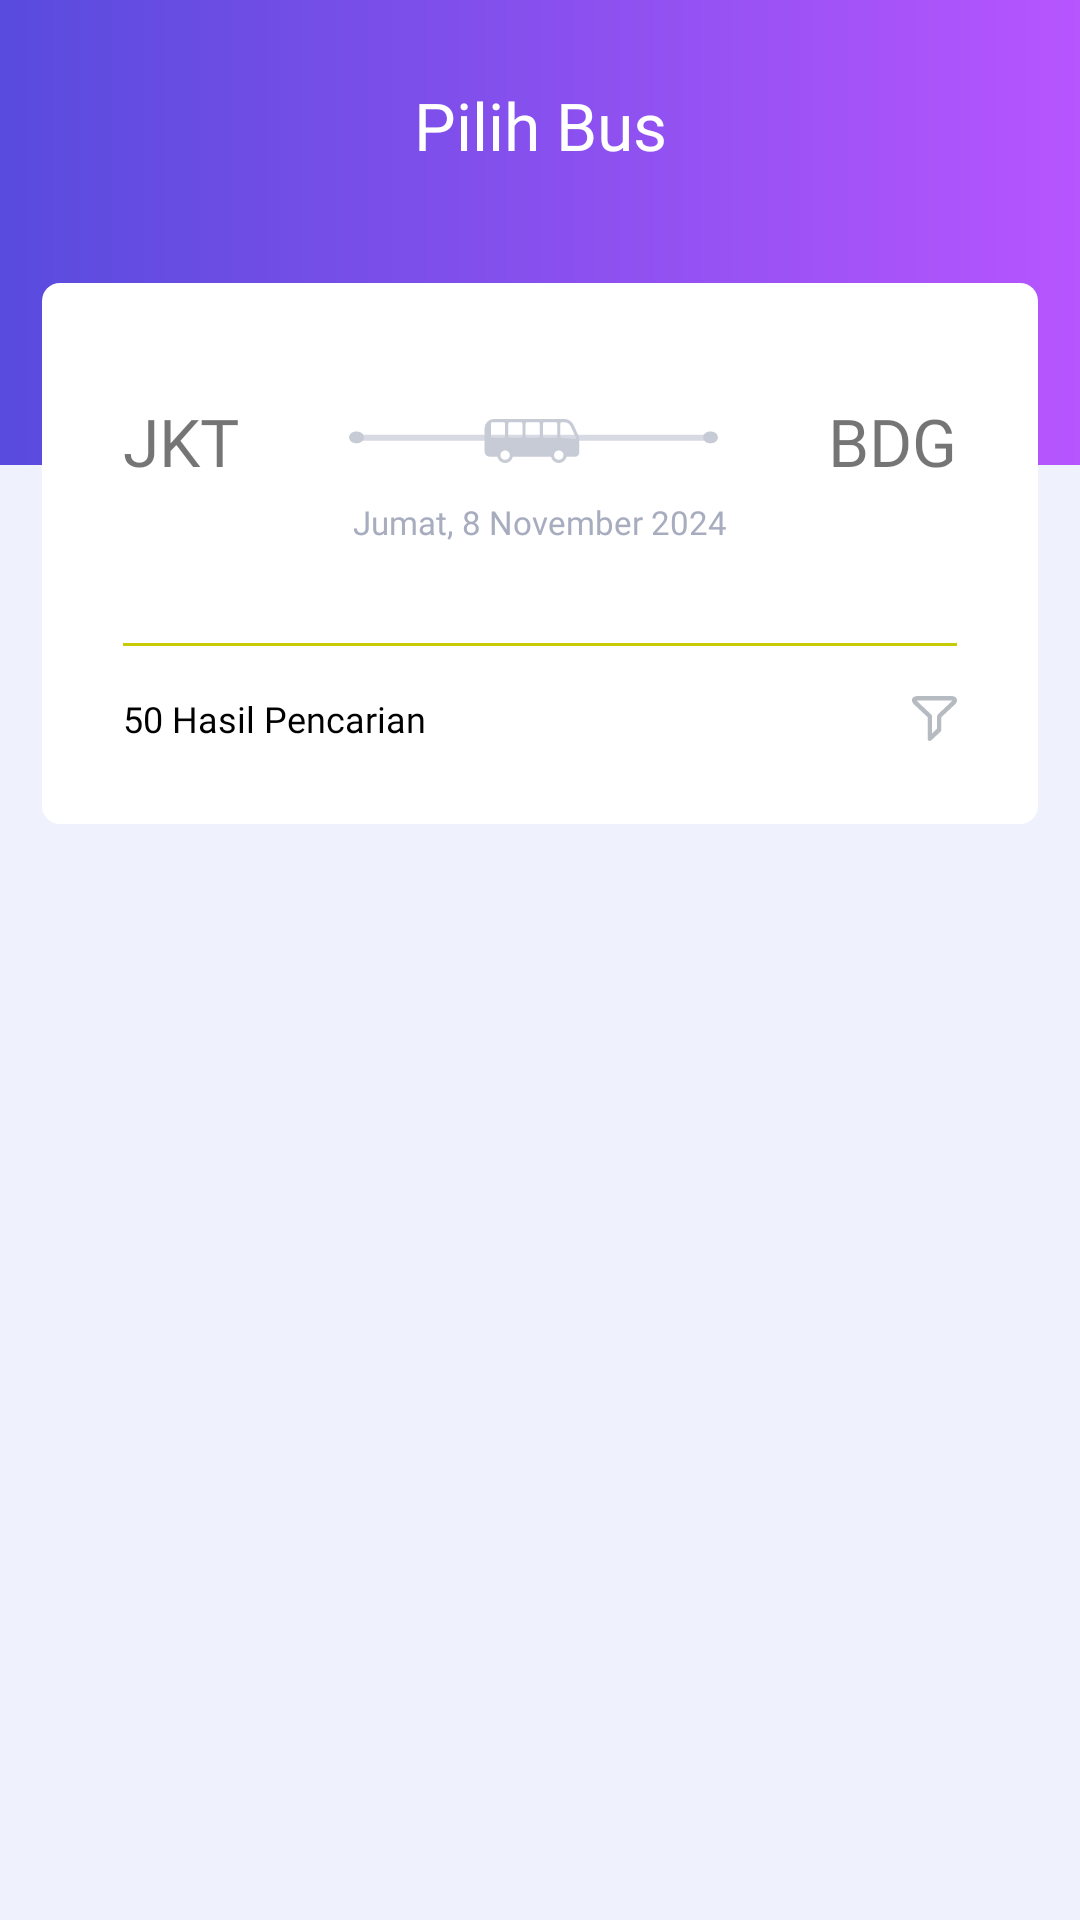

Screen size 1080 × 1920. Icon name, then its center in pixels as (x=x, y=y):
filter: (x=934, y=718)
